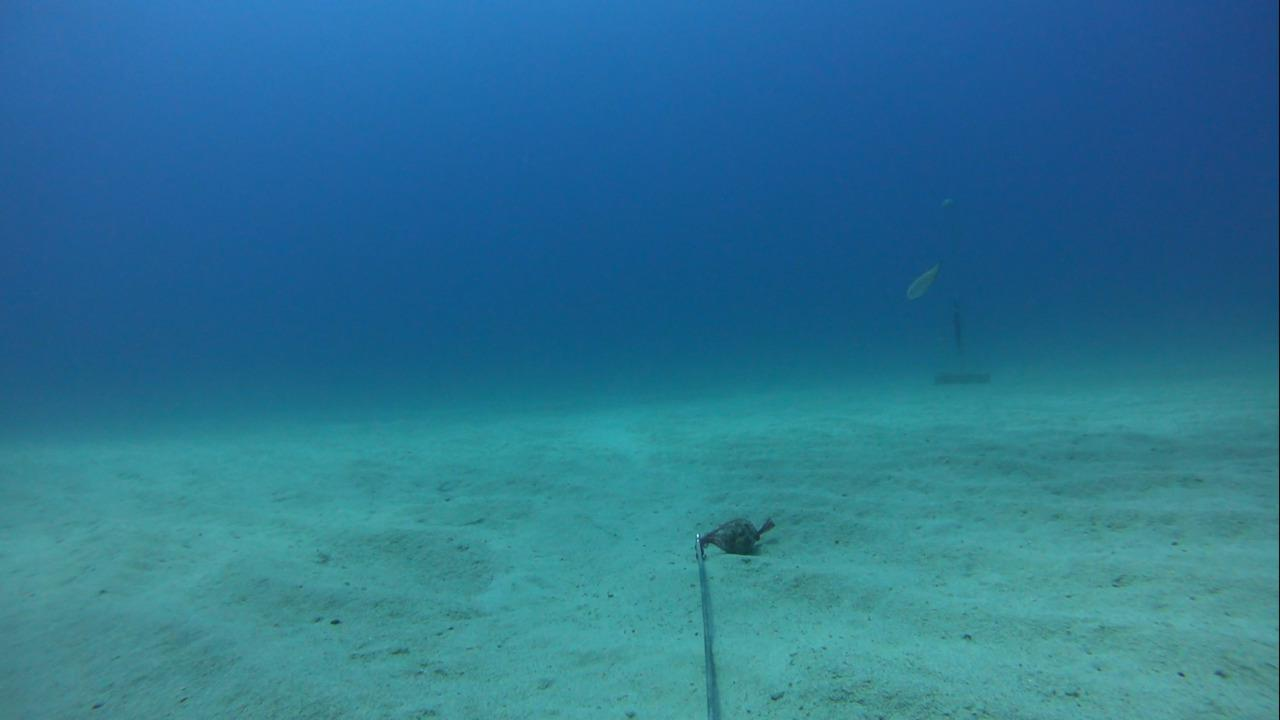raor: (889, 253, 946, 311)
